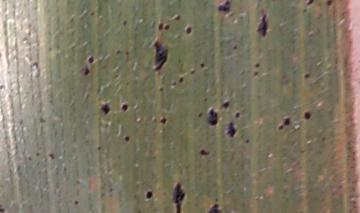tarspot: (149, 37, 169, 74), (170, 179, 187, 212), (254, 11, 272, 41), (213, 1, 237, 16), (205, 106, 221, 127), (98, 100, 112, 118), (204, 202, 226, 213), (225, 120, 237, 138), (142, 188, 155, 202), (197, 146, 211, 158), (118, 101, 131, 113), (114, 47, 127, 59), (81, 65, 93, 77), (120, 17, 132, 29), (302, 108, 312, 122), (163, 19, 171, 36), (183, 24, 195, 35), (121, 133, 133, 144), (157, 115, 169, 126), (198, 60, 209, 72), (71, 197, 82, 208), (177, 74, 185, 89), (221, 97, 231, 109), (155, 19, 163, 34), (281, 115, 291, 127), (85, 55, 96, 65), (232, 110, 242, 120), (47, 151, 57, 161), (156, 85, 166, 95), (241, 137, 253, 145), (173, 13, 183, 22), (94, 143, 104, 152), (188, 68, 198, 77), (301, 72, 312, 80), (231, 41, 239, 52), (304, 1, 316, 8), (34, 150, 43, 159), (252, 69, 262, 77), (201, 95, 209, 105), (253, 61, 261, 69), (196, 111, 204, 119), (325, 1, 333, 8), (1, 205, 8, 213)
